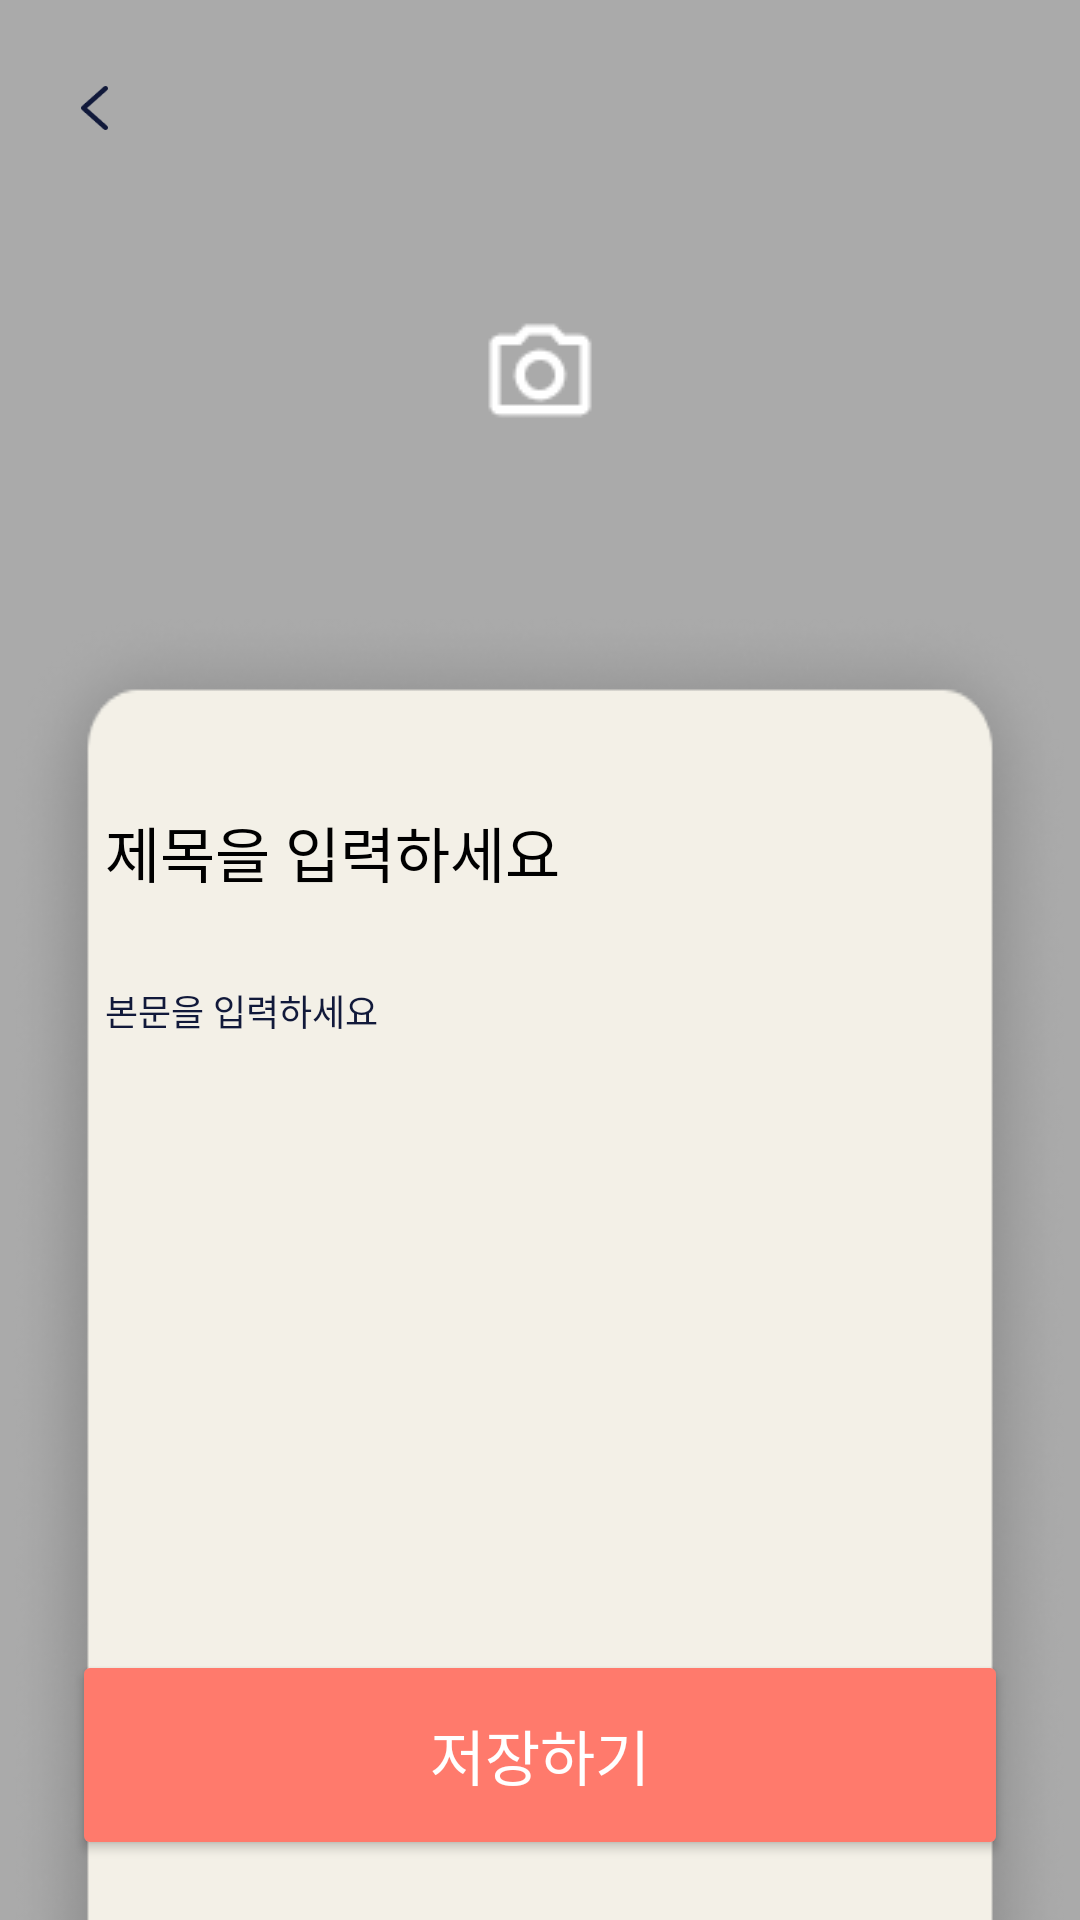

Named icons in this screenshot (1080×1920) and their bounding boxes, [x1=x1, y1=y1, x2=x2, y2=y2]:
arrow: [x1=81, y1=86, x2=108, y2=130]
camera: [x1=489, y1=324, x2=591, y2=416]
